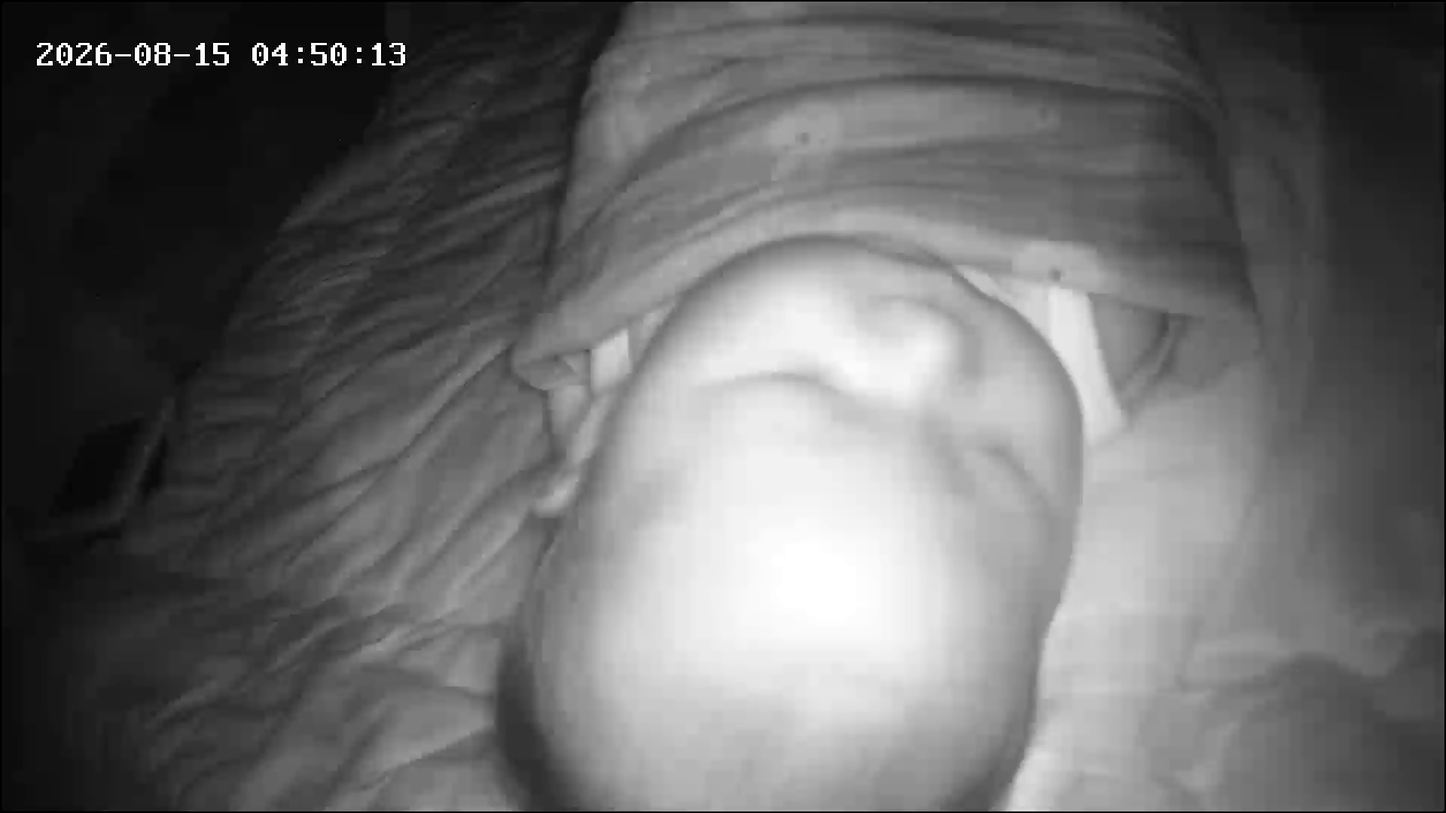baby: (467, 3, 1302, 809)
baby_face: (491, 223, 1091, 812)
